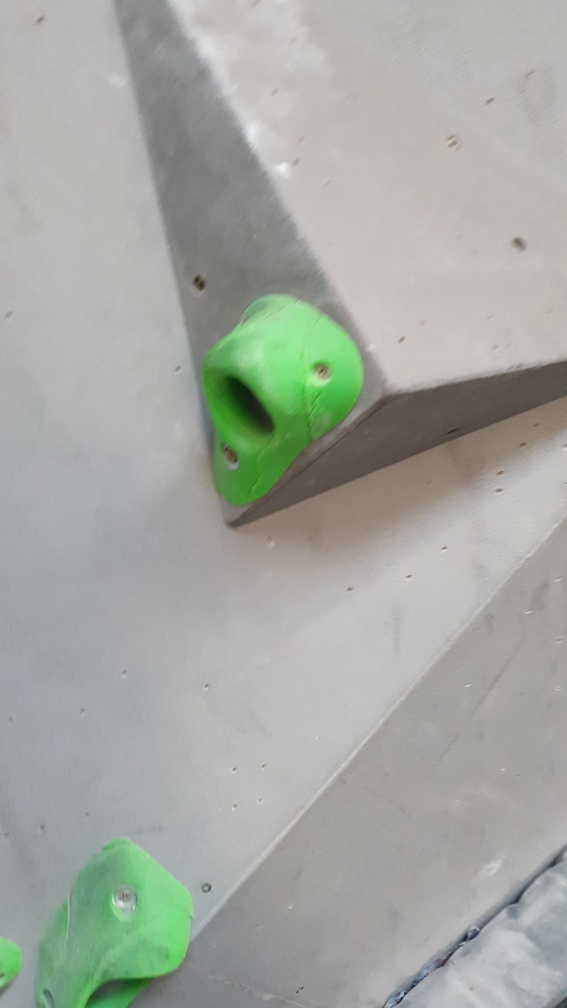Pocket: (204, 295, 372, 506)
